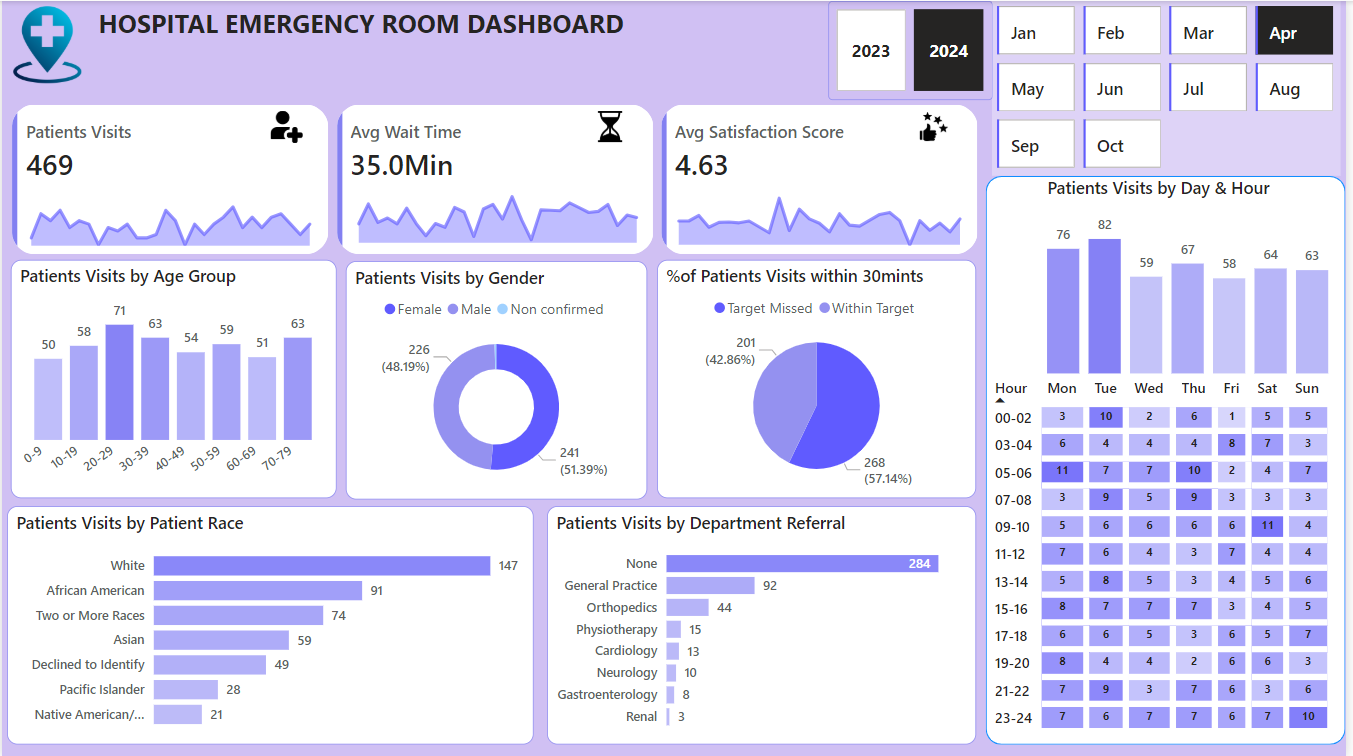

Layout of this report page (visuals, bound fields, positions):
{"tool":"powerbi","page":{"name":"Dashboard","canvas":[1280,720],"ordinal":0},"visuals":[{"type":"cardVisual","fields":{"Data":["All Measures.Patients Visits","All Measures.Avg Wait Time","All Measures.Avg Satisfaction Score"]},"box":[4.8,94.1,931.4,152],"z":0,"group":"g3"},{"type":"columnChart","fields":{"Category":["Hospital Data.Age Range"],"Y":["All Measures.Patients Visits"]},"box":[8.4,246.1,310.1,226.8],"z":0},{"type":"clusteredBarChart","fields":{"Category":["Hospital Data.Department Referral"],"Y":["All Measures.Patients Visits"]},"box":[518.8,481.4,409,226.8],"z":1000},{"type":"barChart","fields":{"Y":["All Measures.Patients Visits"],"Category":["Hospital Data.Patient Race"]},"box":[4.8,481.4,501.9,226.8],"z":2000},{"type":"donutChart","title":"Patients Visits by Gender","fields":{"Category":["Hospital Data.Patient Gender"],"Y":["All Measures.Patients Visits"]},"box":[326.9,247.3,287.1,226.8],"z":3000},{"type":"areaChart","fields":{"Category":["Calendar Table.Date.Variation.Date Hierarchy.Year","Calendar Table.Date.Variation.Date Hierarchy.Quarter","Calendar Table.Date.Variation.Date Hierarchy.Month","Calendar Table.Date.Variation.Date Hierarchy.Day"],"Y":["Avg(Hospital Data.Patient Waittime)"]},"box":[324.7,166,294.6,70],"z":3500,"group":"g3"},{"type":"advancedSlicerVisual","fields":{"Values":["Calendar Table.Year"]},"box":[786.6,0,156.8,94.1],"z":4000},{"type":"pieChart","title":"%of Patients Visits within 30mints","fields":{"Category":["Hospital Data.Wait Time Status"],"Y":["All Measures.Patients Visits"]},"box":[623.7,246.1,304,226.8],"z":5000},{"type":"shape","box":[937.4,166.5,342.6,541.7],"z":6000},{"type":"group","id":"g1","title":"Group 1","box":[4.8,94.1,931.4,152],"z":7000},{"type":"areaChart","fields":{"Y":["All Measures.Patients Visits"],"Category":["Calendar Table.Date.Variation.Date Hierarchy.Year","Calendar Table.Date.Variation.Date Hierarchy.Quarter","Calendar Table.Date.Variation.Date Hierarchy.Month","Calendar Table.Date.Variation.Date Hierarchy.Day"]},"box":[13.6,169,295.3,69.4],"z":7000,"group":"g3"},{"type":"pivotTable","fields":{"Rows":["Hospital Data.Hour Interval"],"Columns":["Calendar Table.Day Name"],"Values":["All Measures.Patients Visits"]},"box":[936,352.1,339,351.1],"z":7000,"group":"g2"},{"type":"group","id":"g2","title":"Group 4","box":[936,166.5,339,536.7],"z":8000},{"type":"columnChart","title":"Patients Visits by Day & Hour","fields":{"Category":["Calendar Table.Day Name"],"Y":["All Measures.Patients Visits"]},"box":[990.5,166.5,278.7,194.2],"z":8000,"group":"g2"},{"type":"advancedSlicerVisual","fields":{"Values":["Calendar Table.Month Name"]},"box":[943.4,0,331.8,166.5],"z":9000},{"type":"textbox","box":[86.9,0,552.5,44.6],"z":10000},{"type":"image","box":[0,0,86.9,83.2],"z":11000},{"type":"areaChart","fields":{"Y":["All Measures.Avg Satisfaction Score"],"Category":["Calendar Table.Date.Variation.Date Hierarchy.Year","Calendar Table.Date.Variation.Date Hierarchy.Quarter","Calendar Table.Date.Variation.Date Hierarchy.Month","Calendar Table.Date.Variation.Date Hierarchy.Day"]},"box":[629.5,169,297.8,69.4],"z":11000,"group":"g3"},{"type":"image","box":[250.9,100.1,39.8,39.8],"z":12000},{"type":"image","box":[559.8,100.1,39,39.8],"z":13000},{"type":"group","id":"g3","title":"Group 2","box":[4.8,94.1,931.4,152],"z":13002,"group":"g1"},{"type":"image","box":[867.4,100.1,39,39.8],"z":14000}]}

Visuals, with their boxes in screenshot pixels (x1, y1, x2, y2), scaled from the page's 1280x720 canvas onto the 1353x756 screenshot:
cardVisual - All Measures.Patients Visits x All Measures.Avg Wait Time: locate(5, 99, 990, 258)
columnChart - Hospital Data.Age Range x All Measures.Patients Visits: locate(9, 258, 337, 497)
clusteredBarChart - Hospital Data.Department Referral x All Measures.Patients Visits: locate(548, 505, 981, 744)
barChart - All Measures.Patients Visits x Hospital Data.Patient Race: locate(5, 505, 536, 744)
"Patients Visits by Gender" donutChart: locate(346, 260, 649, 498)
areaChart - Calendar Table.Date.Variation.Date Hierarchy.Year x Calendar Table.Date.Variation.Date Hierarchy.Quarter: locate(343, 174, 655, 248)
advancedSlicerVisual - Calendar Table.Year: locate(831, 0, 997, 99)
"%of Patients Visits within 30mints" pieChart: locate(659, 258, 981, 497)
shape: locate(991, 175, 1352, 744)
"Group 1" group: locate(5, 99, 990, 258)
areaChart - All Measures.Patients Visits x Calendar Table.Date.Variation.Date Hierarchy.Year: locate(14, 177, 327, 250)
pivotTable - Hospital Data.Hour Interval x Calendar Table.Day Name: locate(989, 370, 1348, 738)
"Group 4" group: locate(989, 175, 1348, 738)
"Patients Visits by Day & Hour" columnChart: locate(1047, 175, 1342, 379)
advancedSlicerVisual - Calendar Table.Month Name: locate(997, 0, 1348, 175)
textbox: locate(92, 0, 676, 47)
image: locate(0, 0, 92, 87)
areaChart - All Measures.Avg Satisfaction Score x Calendar Table.Date.Variation.Date Hierarchy.Year: locate(665, 177, 980, 250)
image: locate(265, 105, 307, 147)
image: locate(592, 105, 633, 147)
"Group 2" group: locate(5, 99, 990, 258)
image: locate(917, 105, 958, 147)
